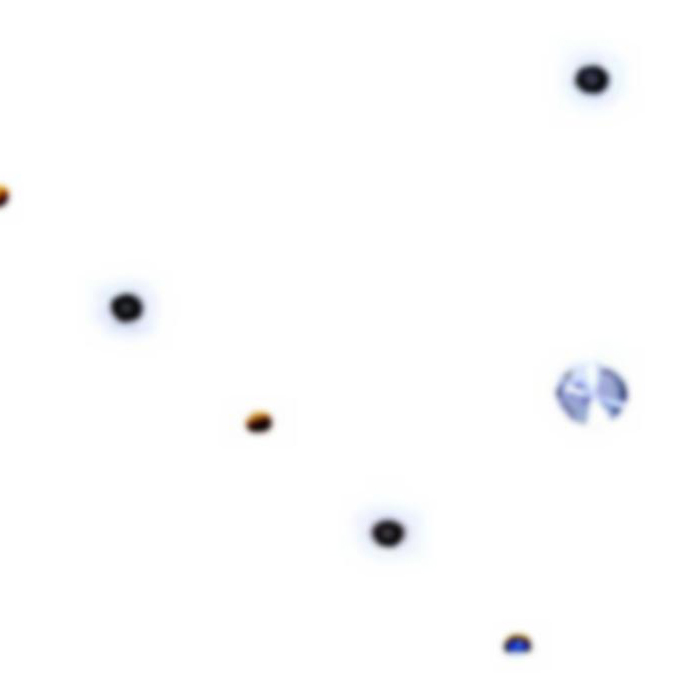abnormal: (535, 347, 652, 438)
cancer: (86, 270, 177, 343), (351, 492, 433, 566), (550, 51, 639, 117)
normal: (231, 397, 292, 447), (489, 623, 545, 667)
